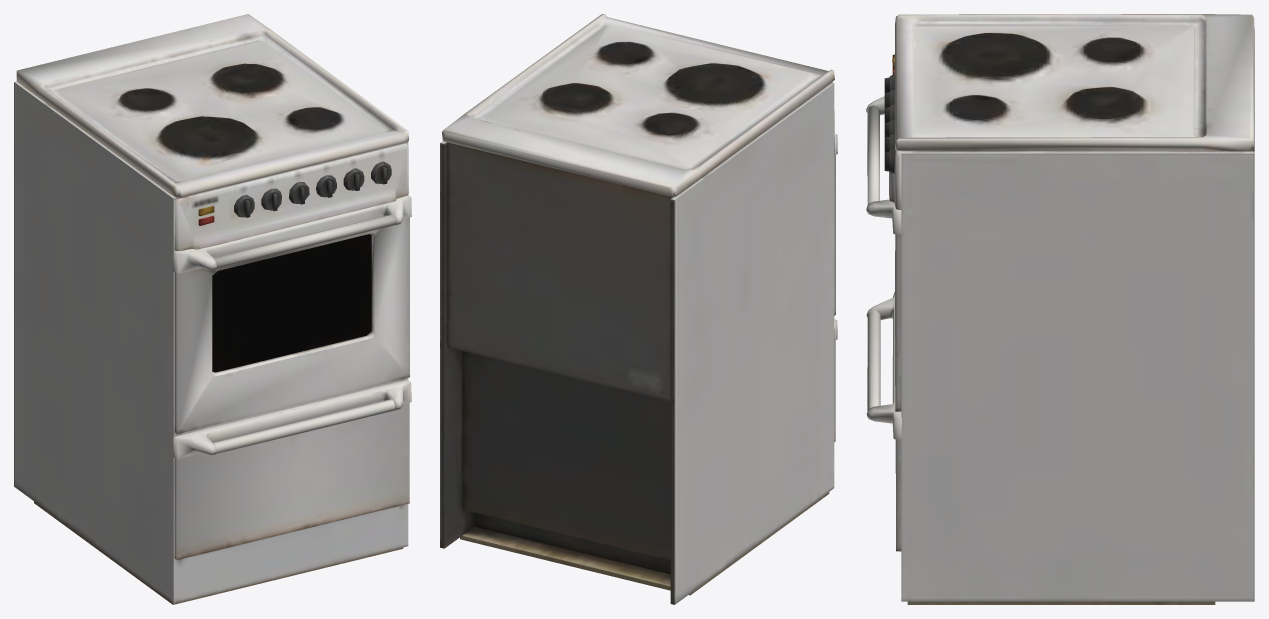
Rendered from electric_stove.glb.
3 views of the same model, side by side, from view 1: azimuth 30°, elevation 25°; view 2: azimuth 150°, elevation 25°; view 3: azimuth 270°, elevation 25° (orthographic). The views are drawn at different scales.
Visible parts, largest first — view 1: stovetop, door_top; view 2: stovetop; view 3: stovetop.
Boxes of the visible parts, left/top/right/bottom form: stovetop: left=14, top=14, right=411, bottom=604; door_top: left=212, top=234, right=371, bottom=372; stovetop: left=440, top=14, right=837, bottom=604; stovetop: left=866, top=14, right=1254, bottom=604.
Size of the model in its own units: 0.5026 by 0.8584 by 0.6476.
Materials: 2 (2 with a texture image).
